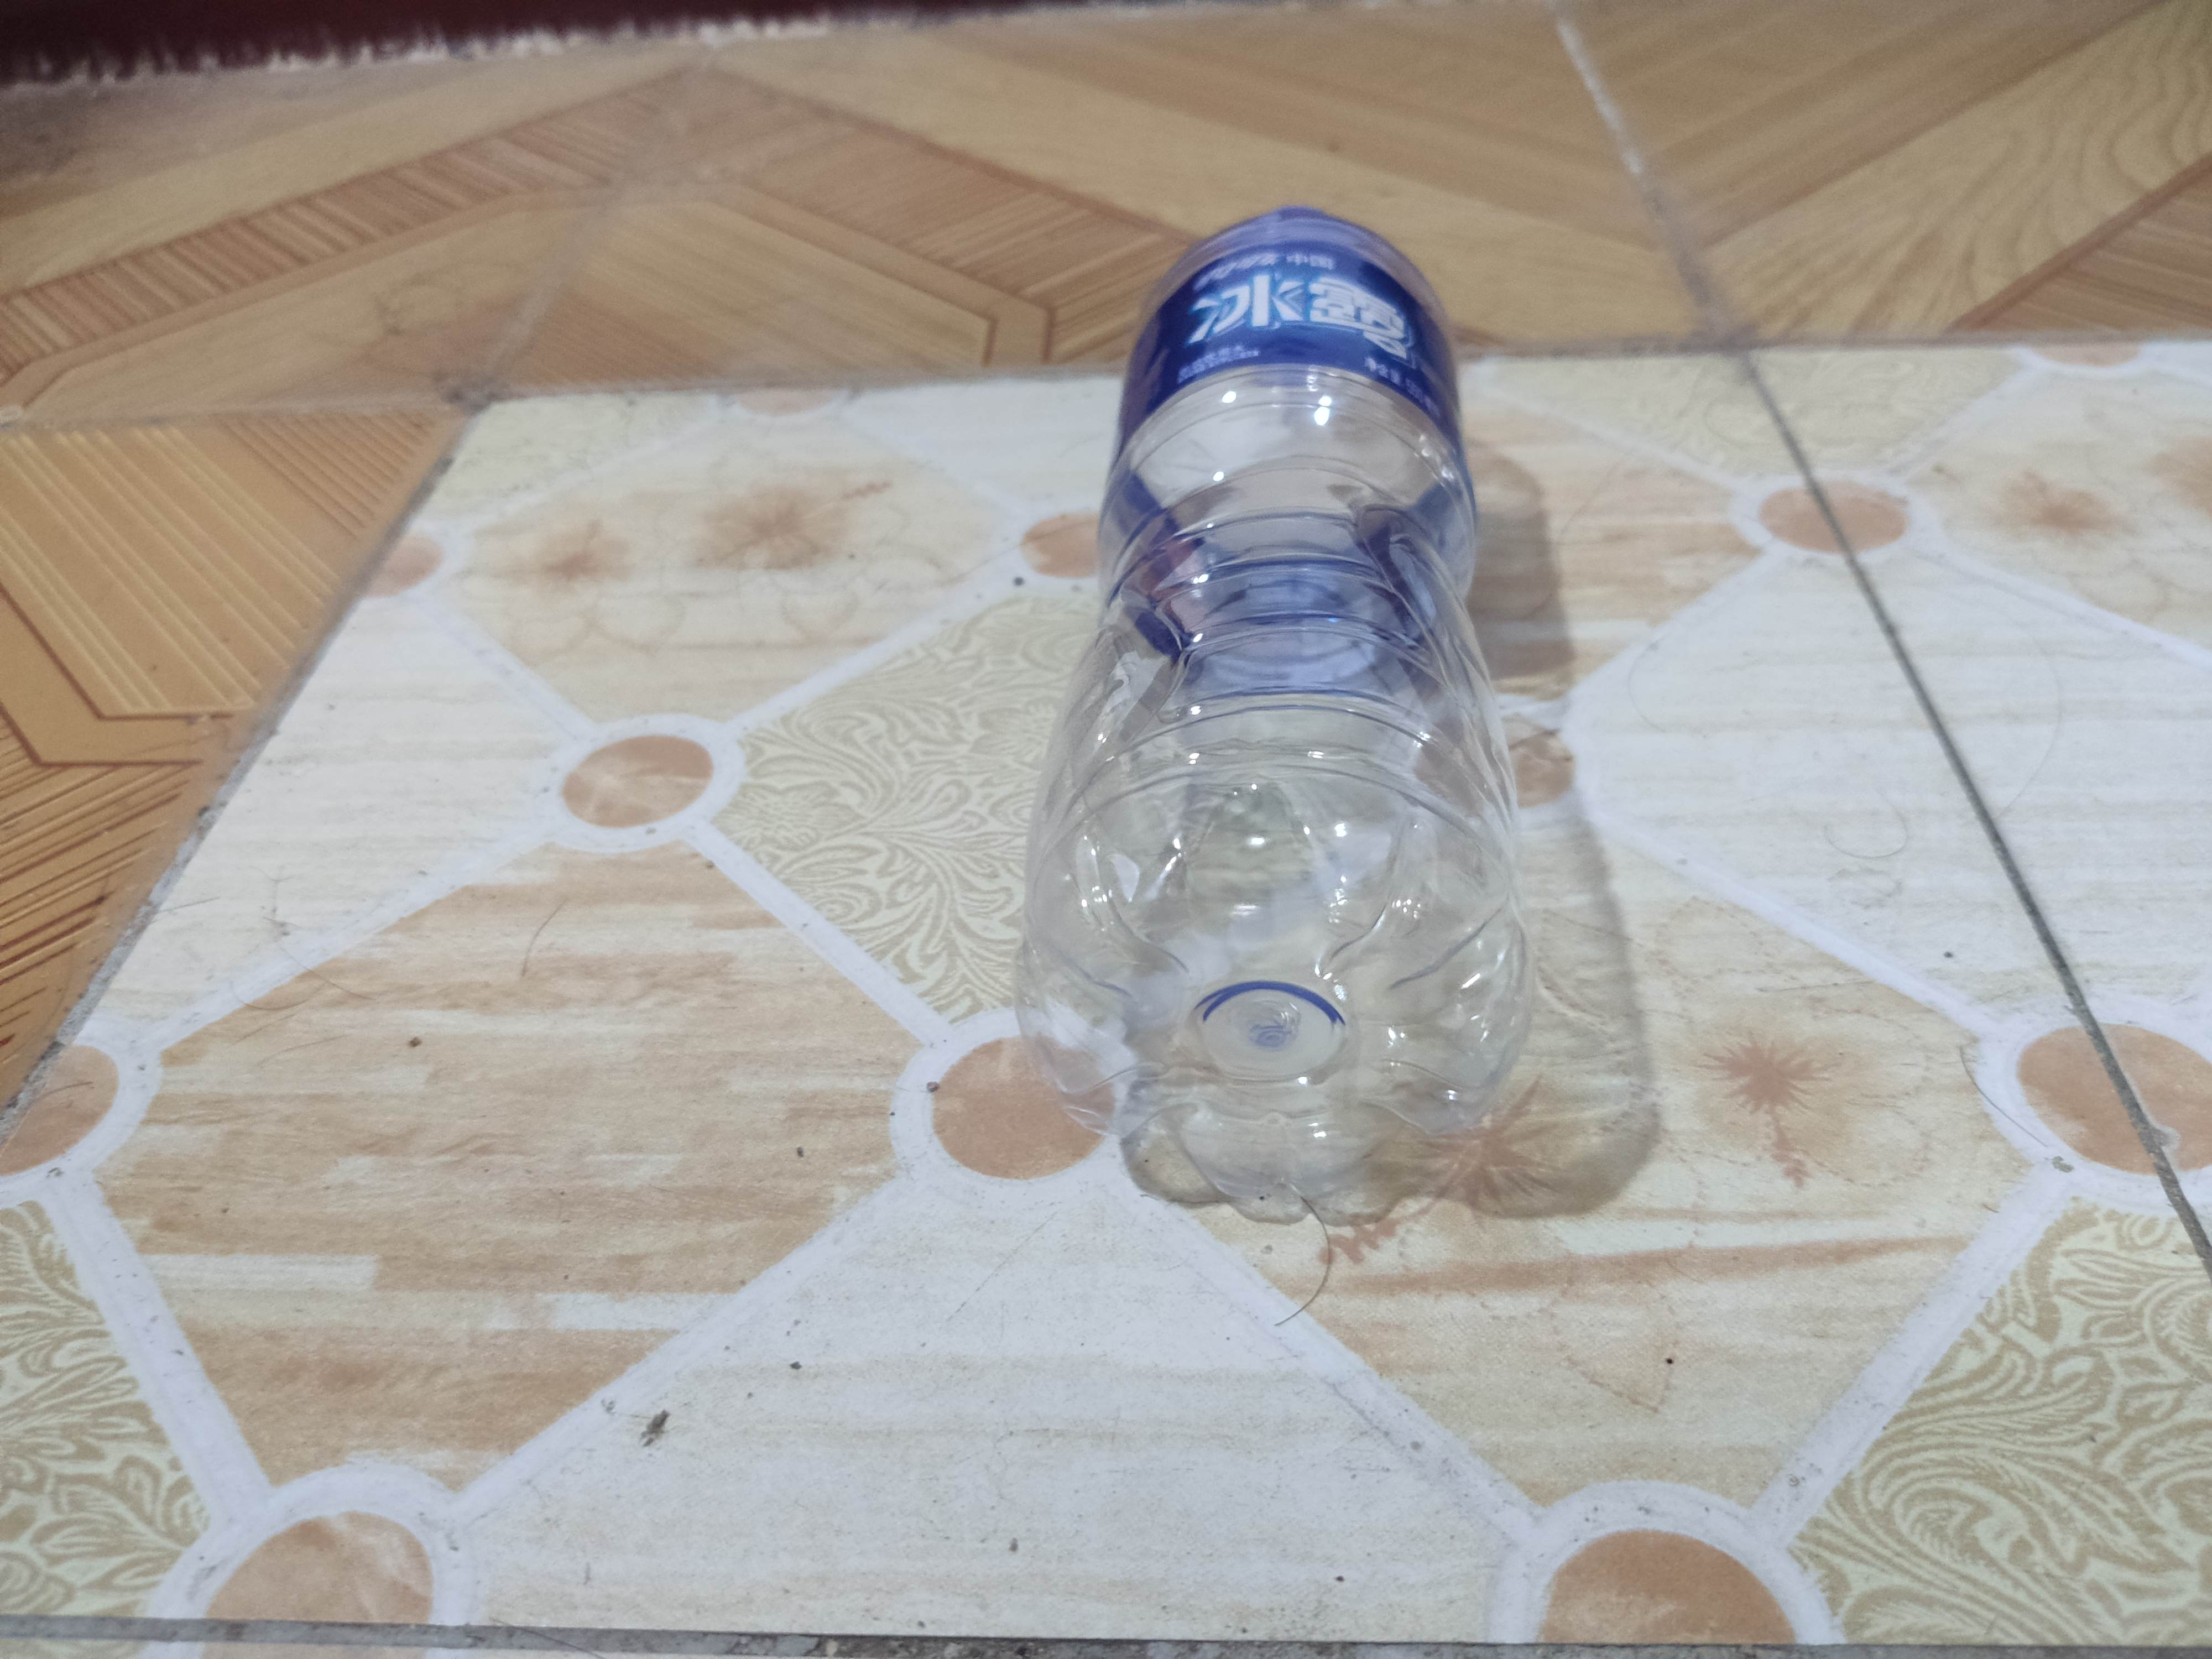Plastic Bottle: (1005, 195, 1543, 1222)
